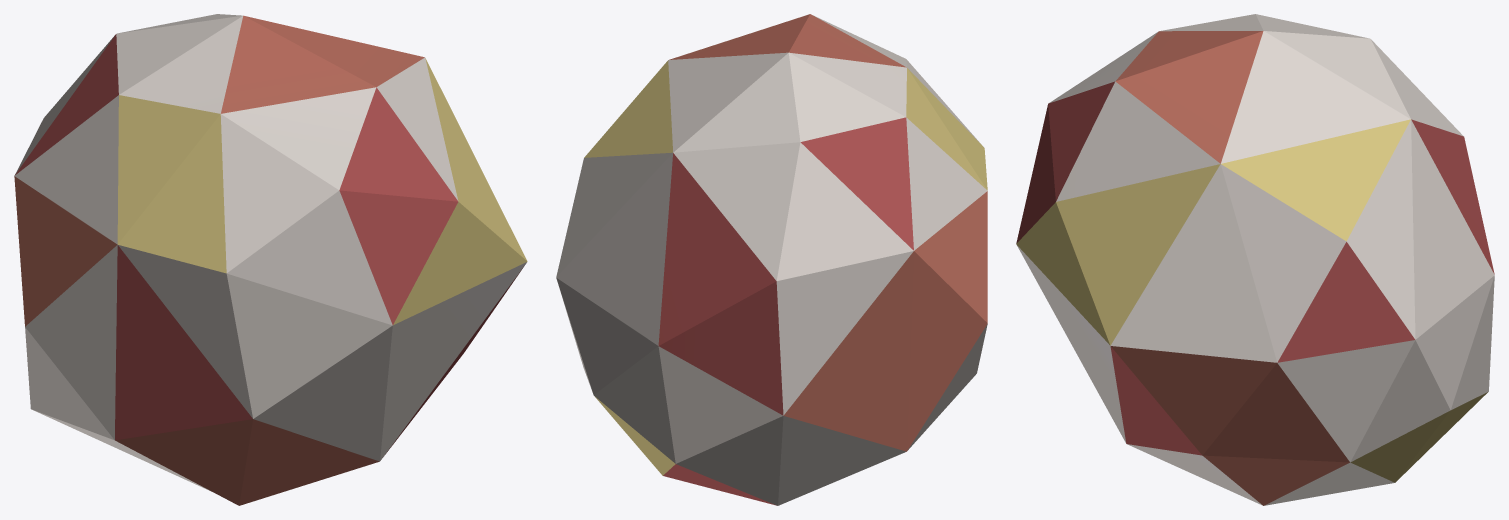
File: saltyjawbreaker.fbx
3 views of the same model, side by side, from view 1: azimuth 30°, elevation 25°; view 2: azimuth 150°, elevation 25°; view 3: azimuth 270°, elevation 25° (orthographic). The views are drawn at different scales.
Visible parts, largest first — view 1: saltyjawbreaker; view 2: saltyjawbreaker; view 3: saltyjawbreaker.
Boxes of the visible parts, x1=… form: saltyjawbreaker: x1=14, y1=14, x2=527, y2=505; saltyjawbreaker: x1=556, y1=14, x2=987, y2=505; saltyjawbreaker: x1=1016, y1=14, x2=1494, y2=505.
Bounding box in the file's own units: 1.05 × 1.06 × 1.03.
Materials: 1 (1 with a texture image).
